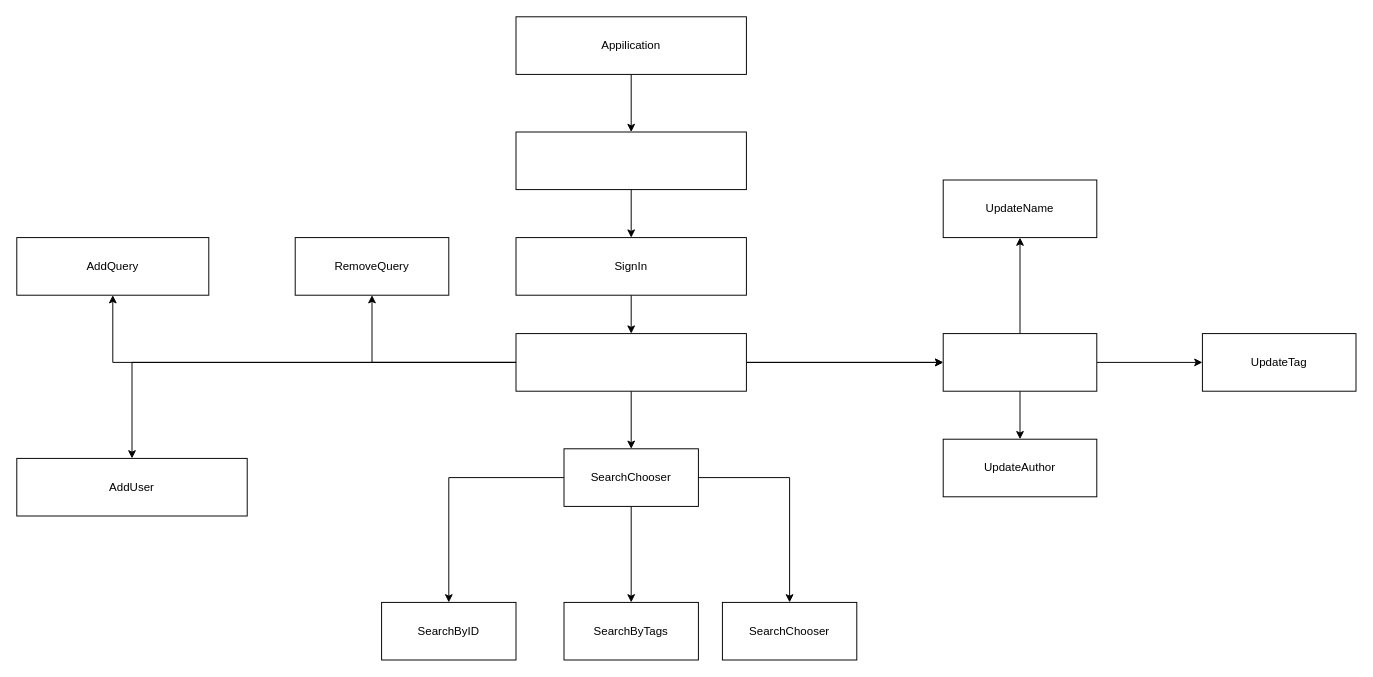
Some shapes in this 1373 by 677 pixel diagram are drawn without their labels. Each missing label, with the centre of its shape:
"Control (Logic UI)" goes at (x=630, y=160).
"UpdateChooser" goes at (x=1019, y=362).
"UserInteface" goes at (x=630, y=362).
